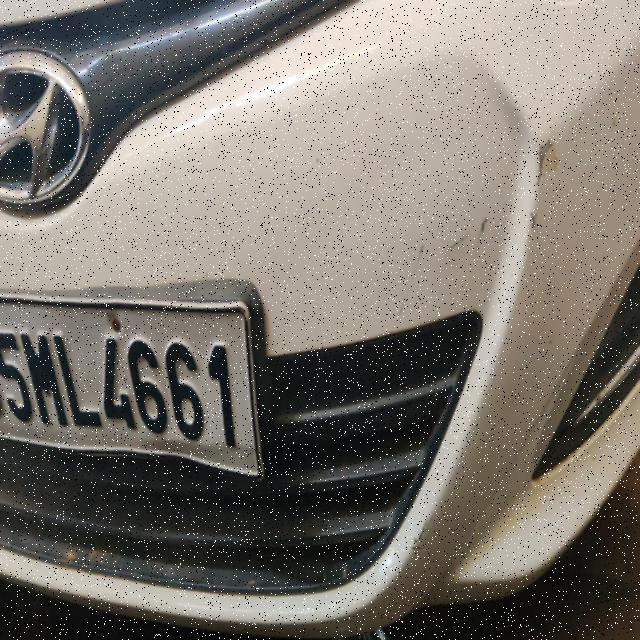hood: (264, 0, 639, 630)
